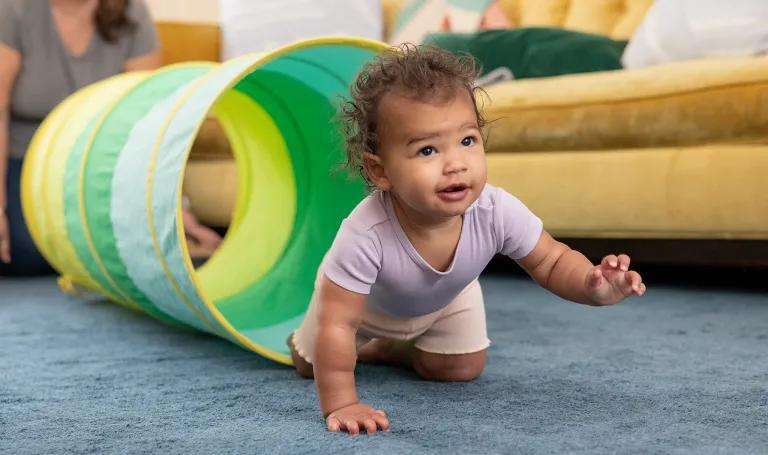child: (253, 40, 662, 440)
